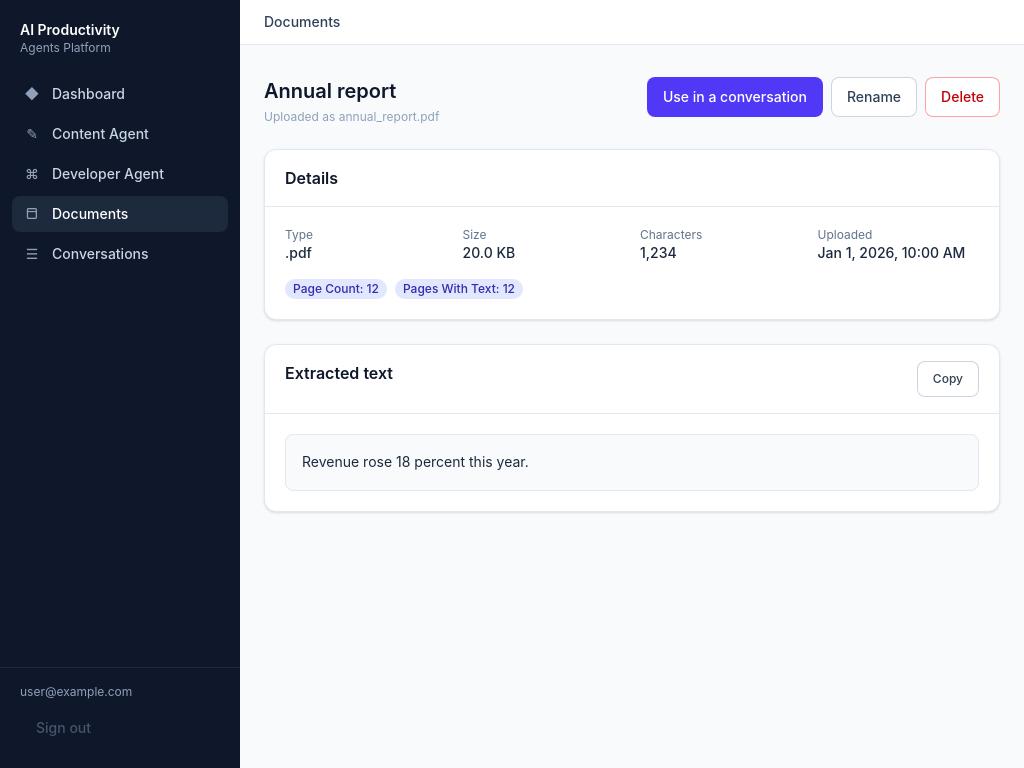
Test case: using a document in a conversation › carries the document through to the conversation list
What coordinates should you click on to do the following:
click the button "Use in a conversation"
I would click on:
 (735, 97)
Its box is top-left (647, 77), bottom-right (823, 117).
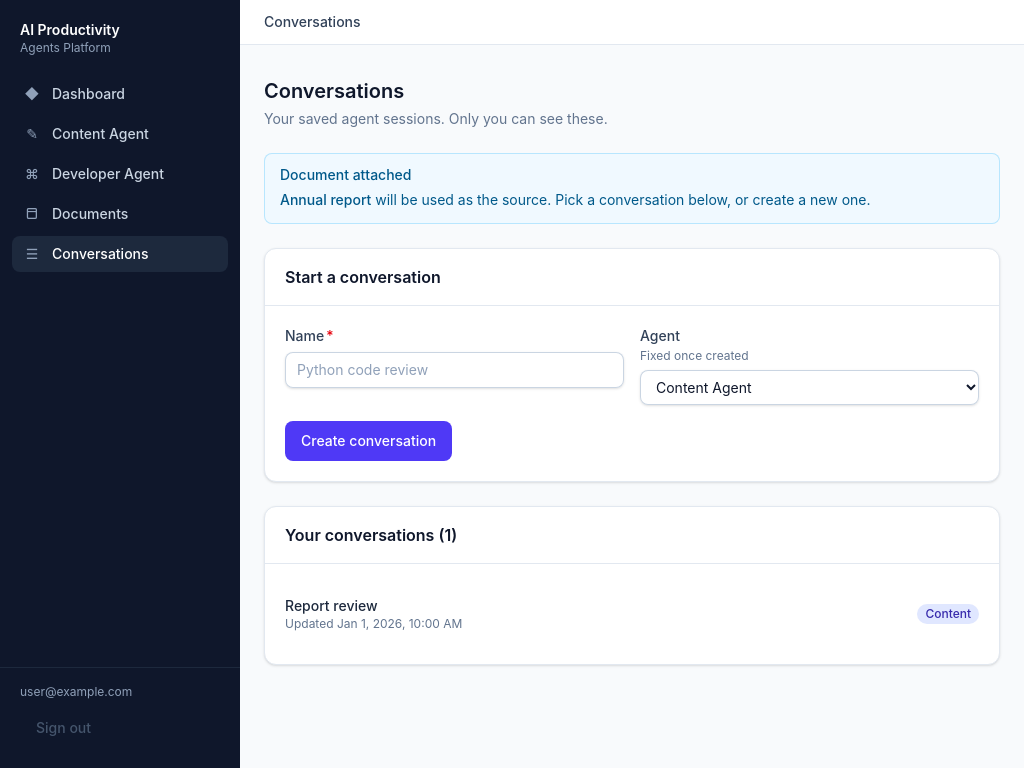
Expected: the text "Annual report" is shown, top-left (280, 191), bottom-right (371, 208)
Now the text "Document attached" is shown, box top-left (280, 166), bottom-right (412, 183)
